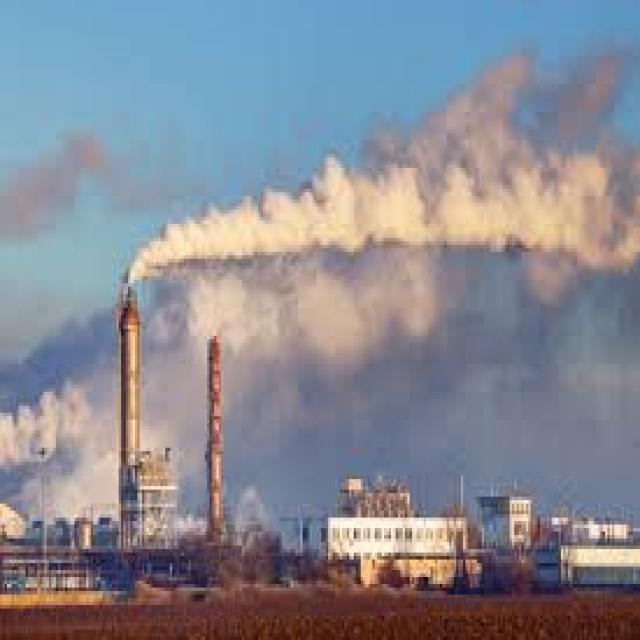Smoke: (130, 134, 640, 352), (0, 386, 91, 476)
